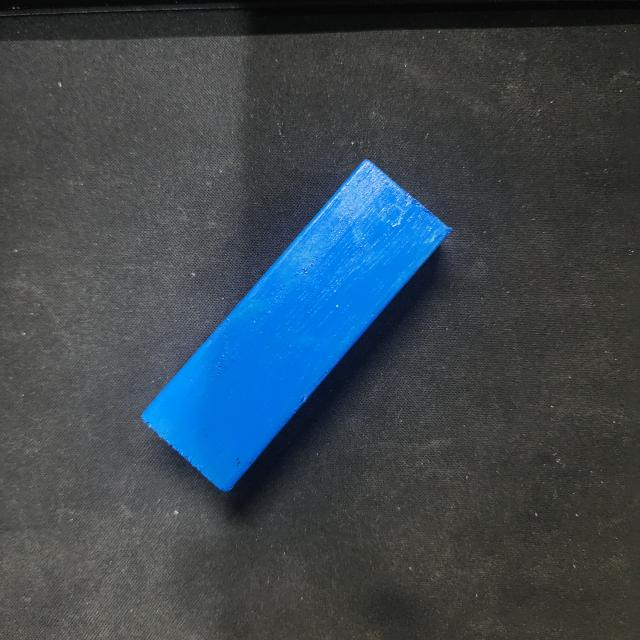blue: (138, 153, 451, 493)
